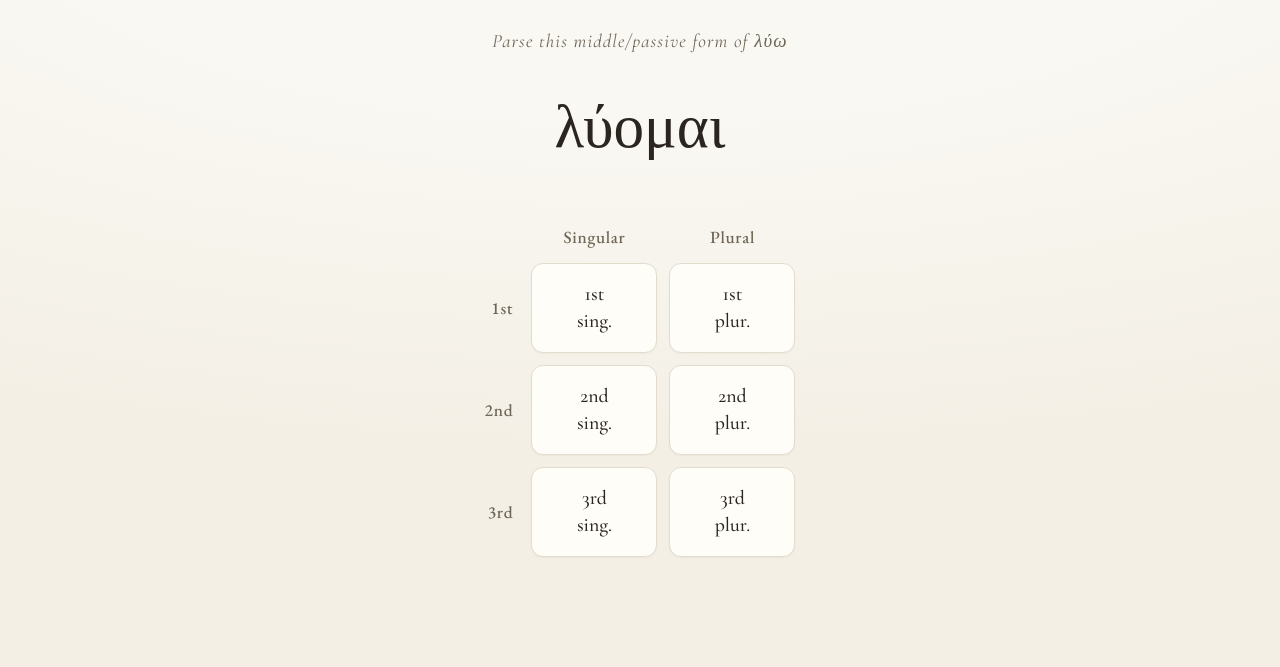
Scenario: VerbEndingsLuo › logs the cell picked and the cell wanted when the answer is wrong
The width and height of the screenshot is (1280, 667).
Click the 4th button with class "cell". click: (732, 410)
box: [670,365,796,455]
(page scrolled)
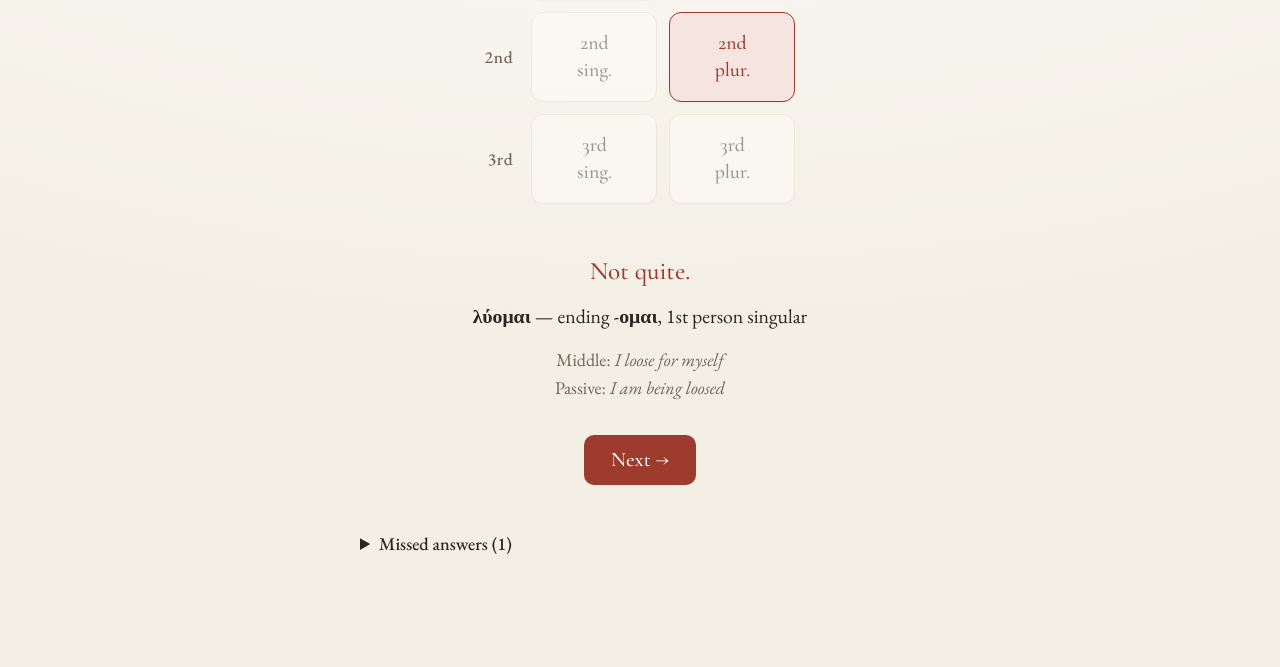
Expected: the heading "Missed answers (1)" is shown, [379,532,512,555]
